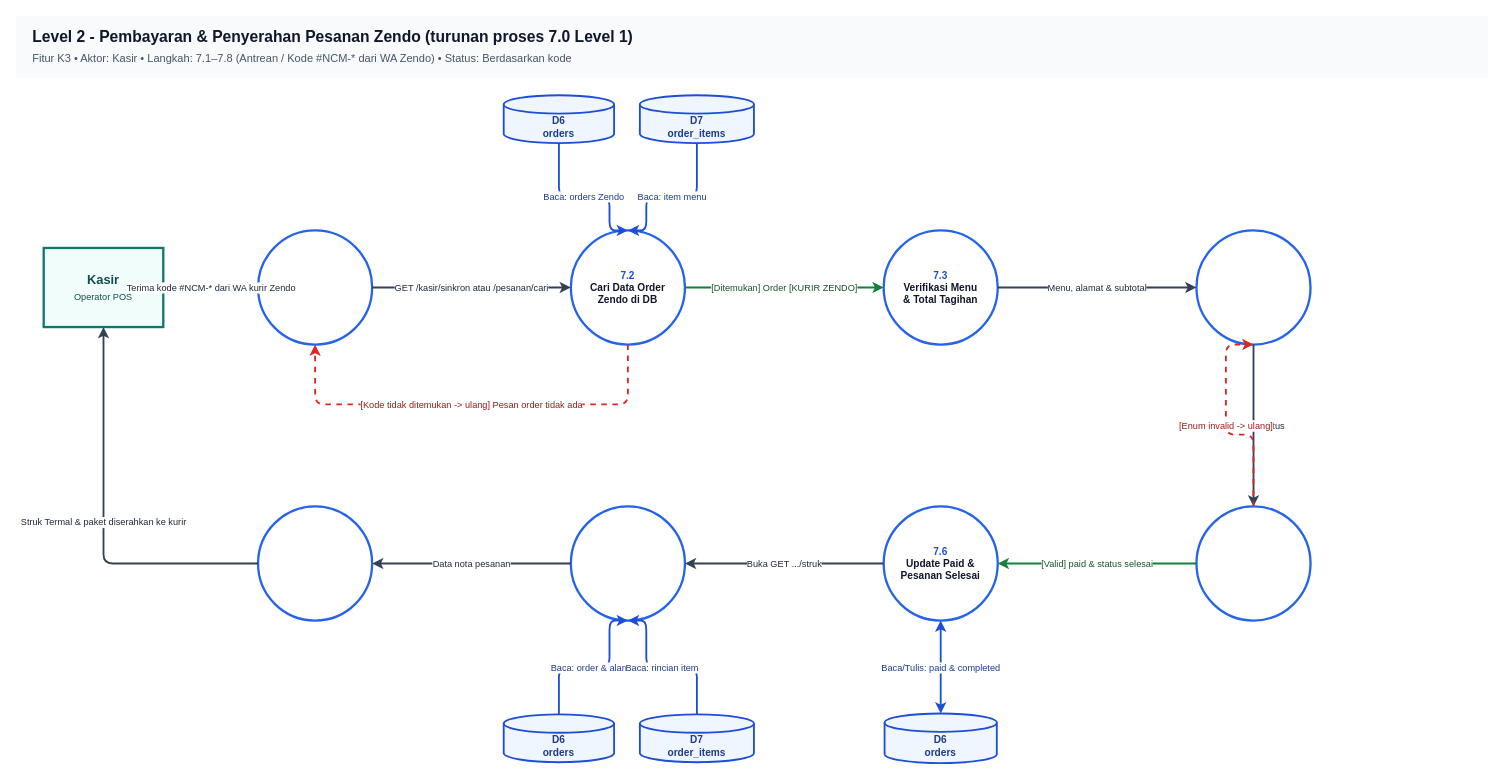
This 1503x779 diagram has some shape labels left out. Here are the shapes that lost their labels. From the top down, the box of each, then its label:
(256, 229, 373, 345): 7.1 Buka Antrean / Cari Kode #NCM-*
(1195, 229, 1311, 345): 7.4 Terima Bayar Talangan & Status
(256, 505, 373, 621): 7.8 Cetak Struk & Serah Pesanan
(569, 505, 686, 621): 7.7 Muat Data Nota Order Zendo
(1195, 505, 1311, 621): 7.5 Validasi Status & Pembayaran
